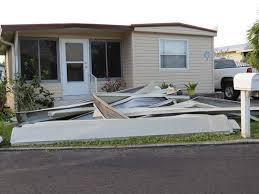minor: (3, 21, 223, 126)
